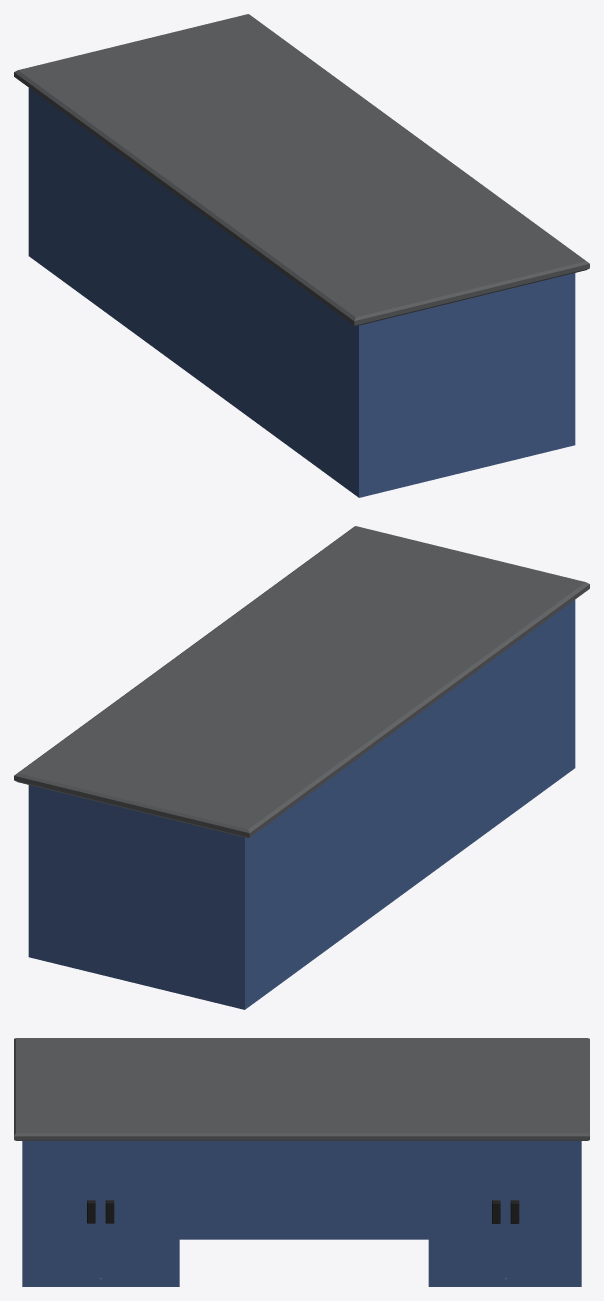
File: Obj_LabTableCabinet.fbx
The picture shows the model from 3 angles, top to bottom: view 1: azimuth 30°, elevation 25°; view 2: azimuth 150°, elevation 25°; view 3: azimuth 270°, elevation 25°; orthographic projection. The views are drawn at different scales.
Parts seen in each view (by area): view 1: Obj_LabTableCabinet; view 2: Obj_LabTableCabinet; view 3: Obj_LabTableCabinet.
Part boxes in pixels (x1,y1,x2,y2): Obj_LabTableCabinet: (14,14,589,497); Obj_LabTableCabinet: (14,526,589,1009); Obj_LabTableCabinet: (14,1038,589,1286).
Size of the model in its own units: 2 by 1.5 by 5.
